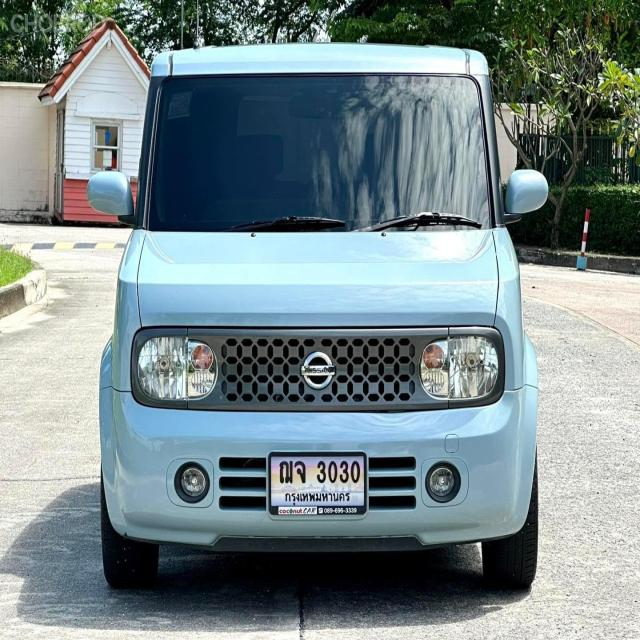license_plate: (253, 446, 382, 532)
